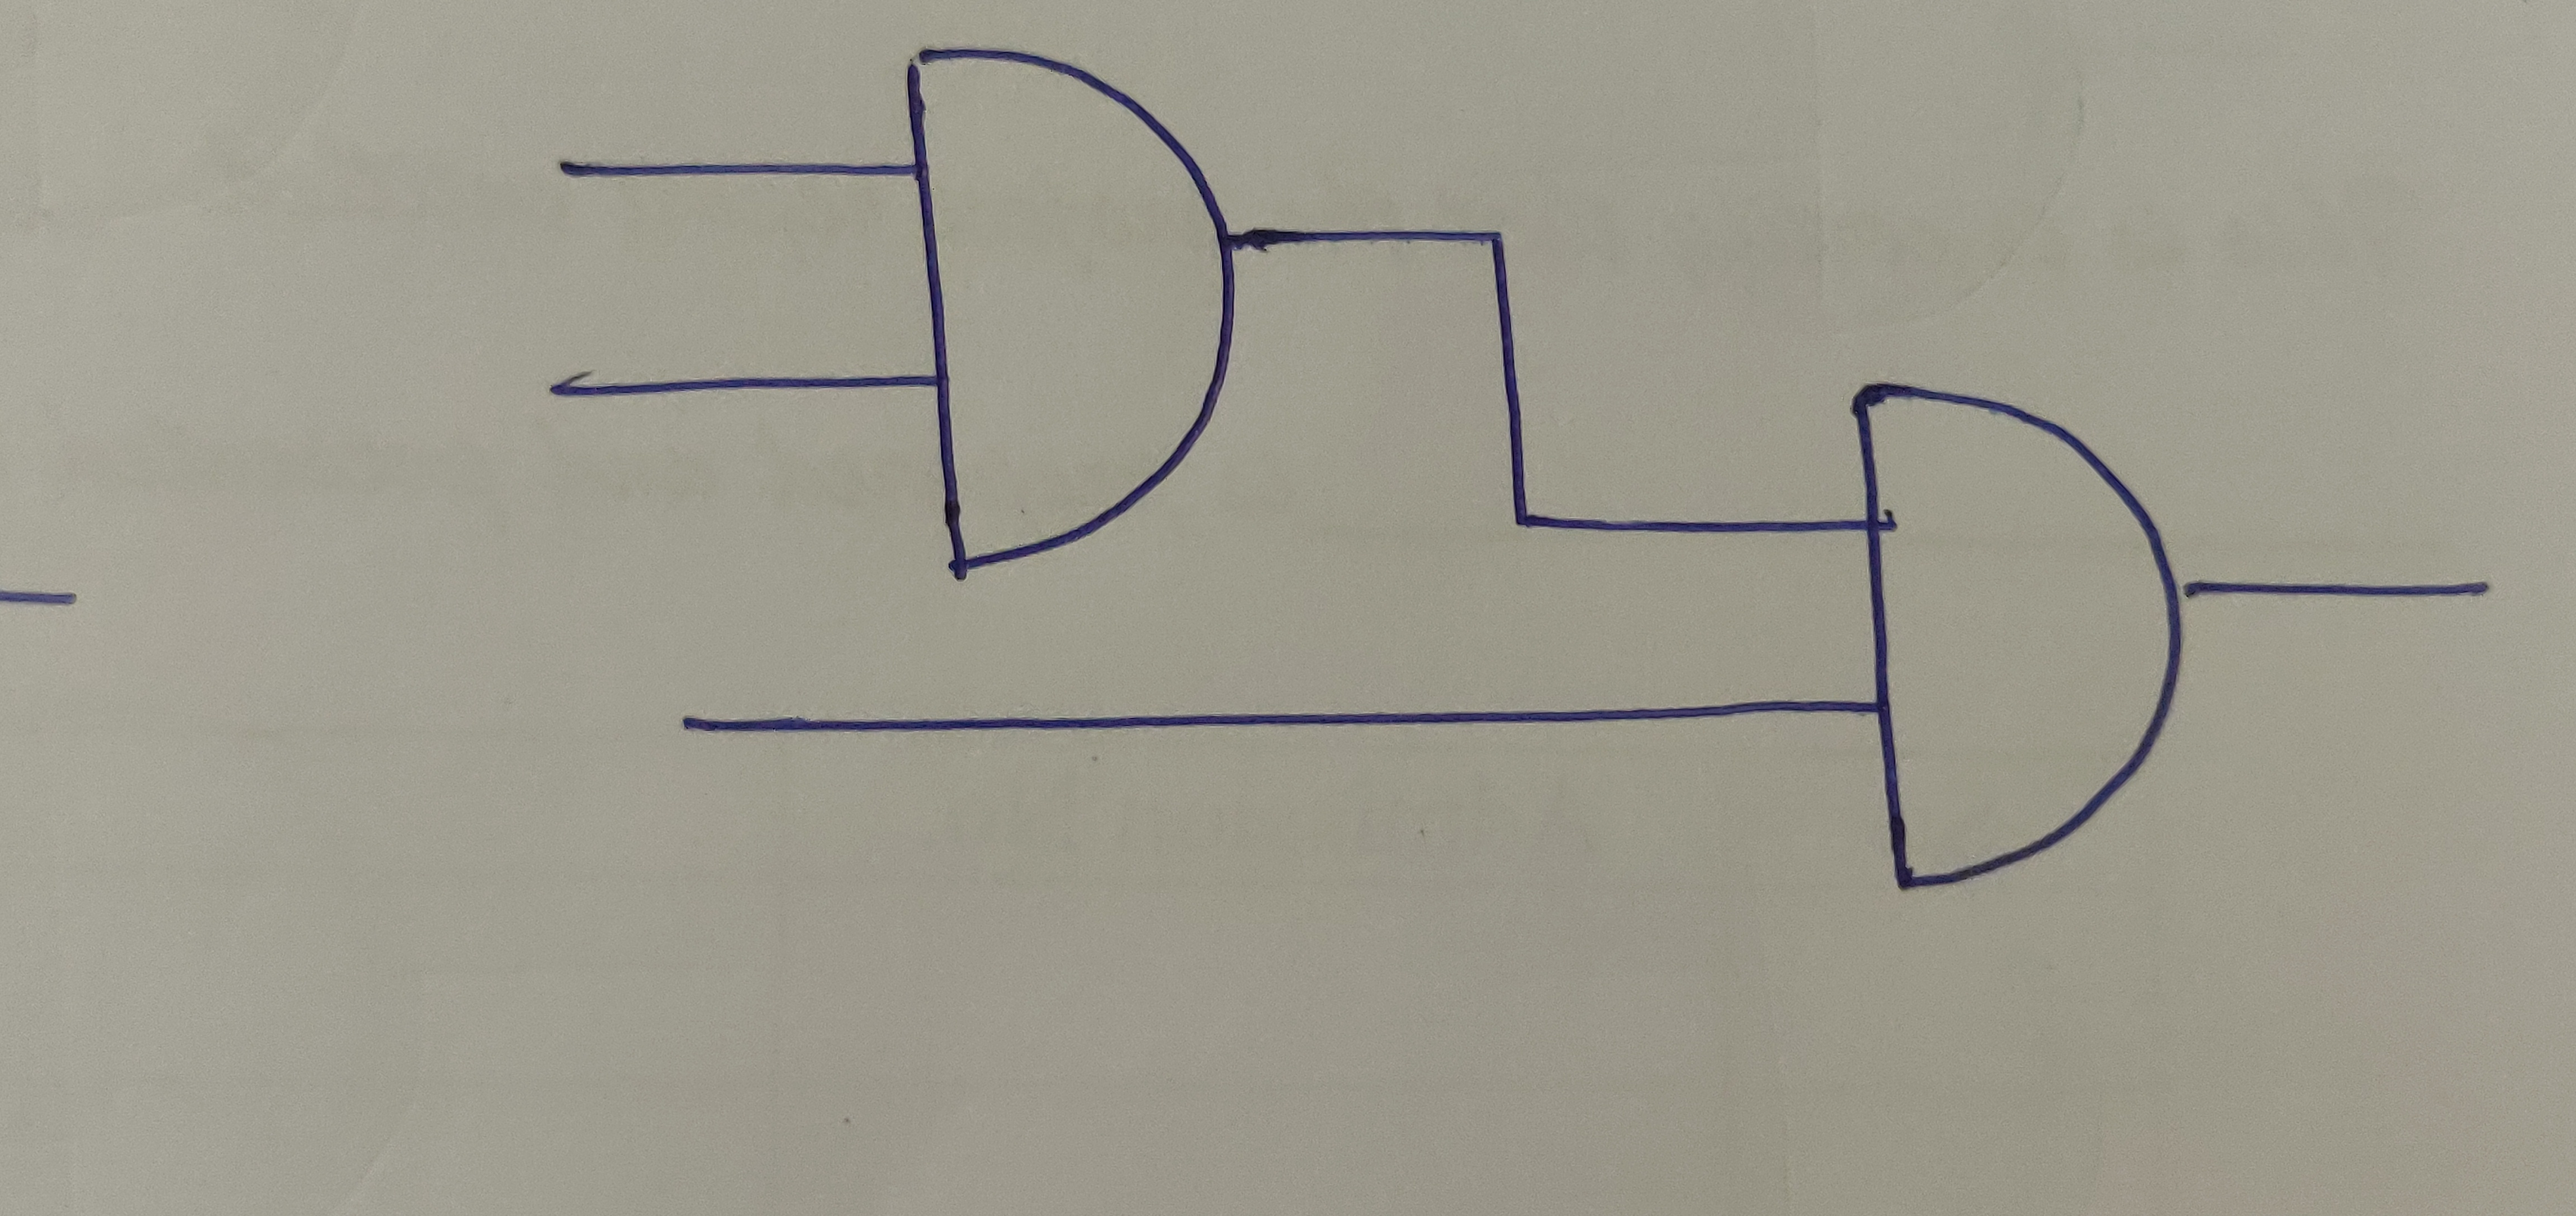and: (892, 41, 1242, 572), (1845, 383, 2183, 892)
